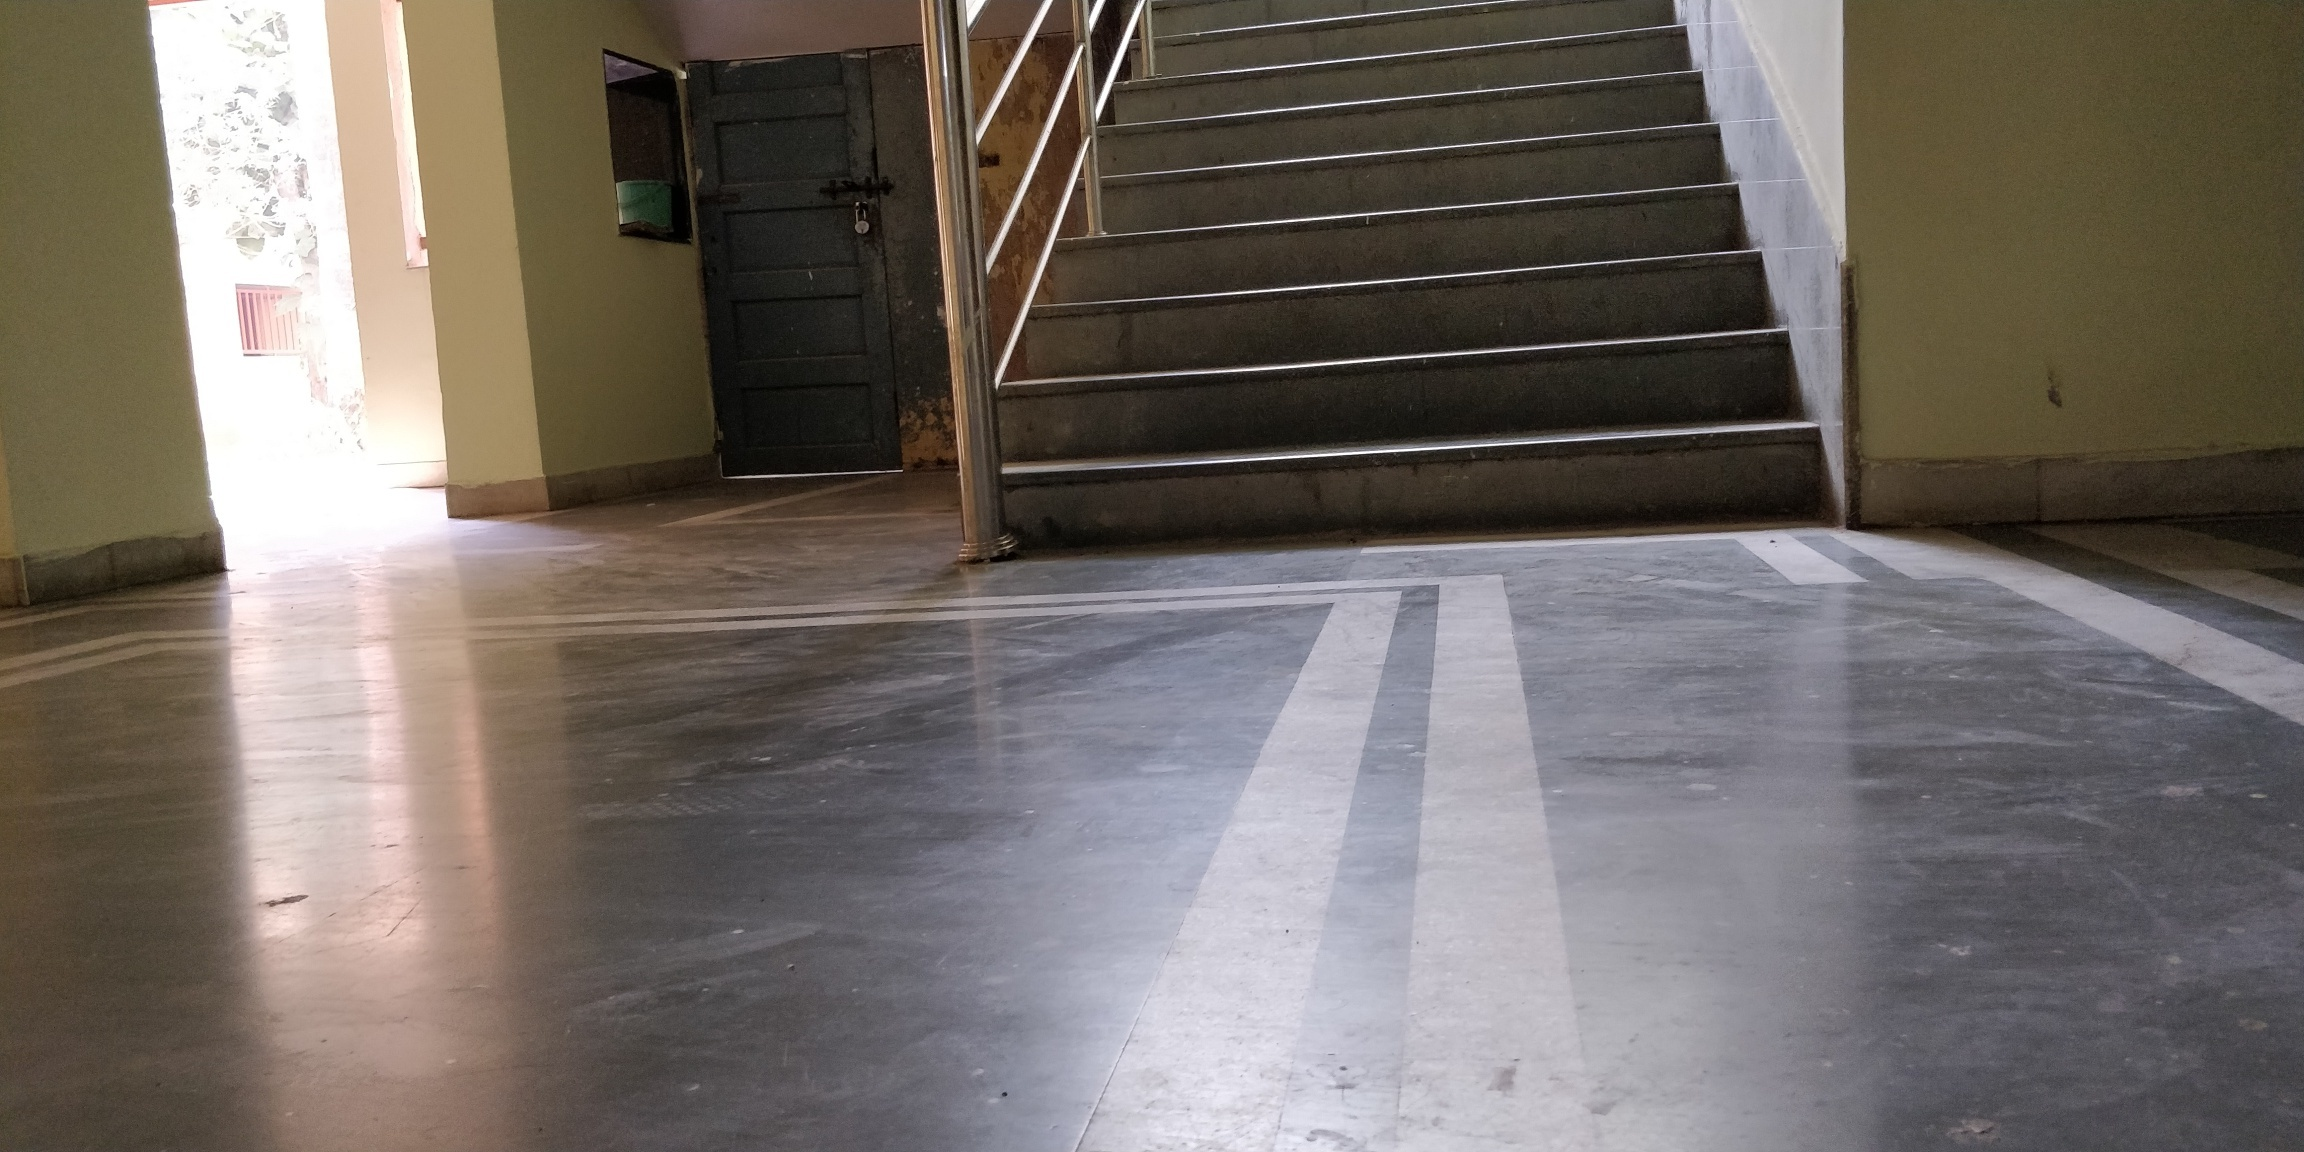stairs_up: (984, 29, 1818, 542)
